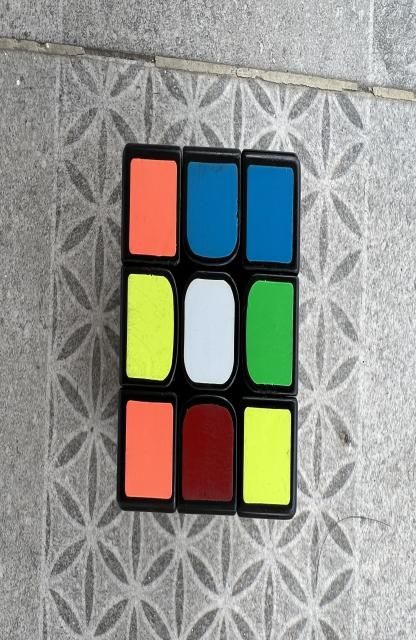Blue: (187, 162, 238, 258), (246, 165, 293, 263)
Green: (246, 280, 293, 387)
Orange: (125, 400, 173, 500), (129, 158, 177, 257)
Red: (182, 403, 233, 502)
White: (184, 278, 235, 385)
Yellow: (126, 273, 174, 380), (243, 407, 291, 505)
